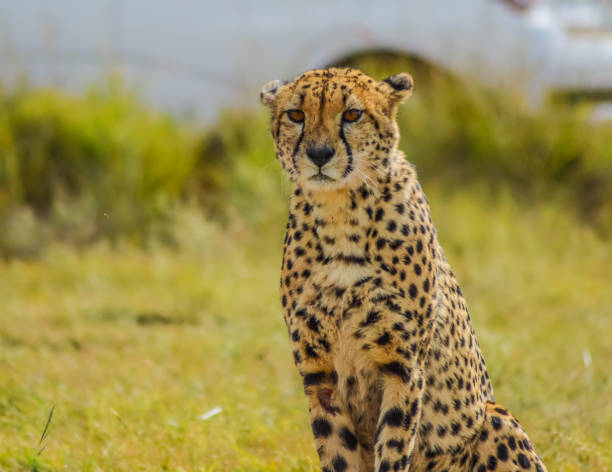cheetah: (239, 56, 444, 208)
